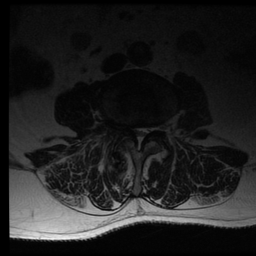CCS_normal: (136, 121, 142, 154)
LFS_severe_stenosis: (150, 120, 156, 137)
LLS_stenosis: (144, 120, 150, 140)
RFS_severe_stenosis: (125, 119, 131, 137)
RLS_severe_stenosis: (130, 119, 137, 138)
